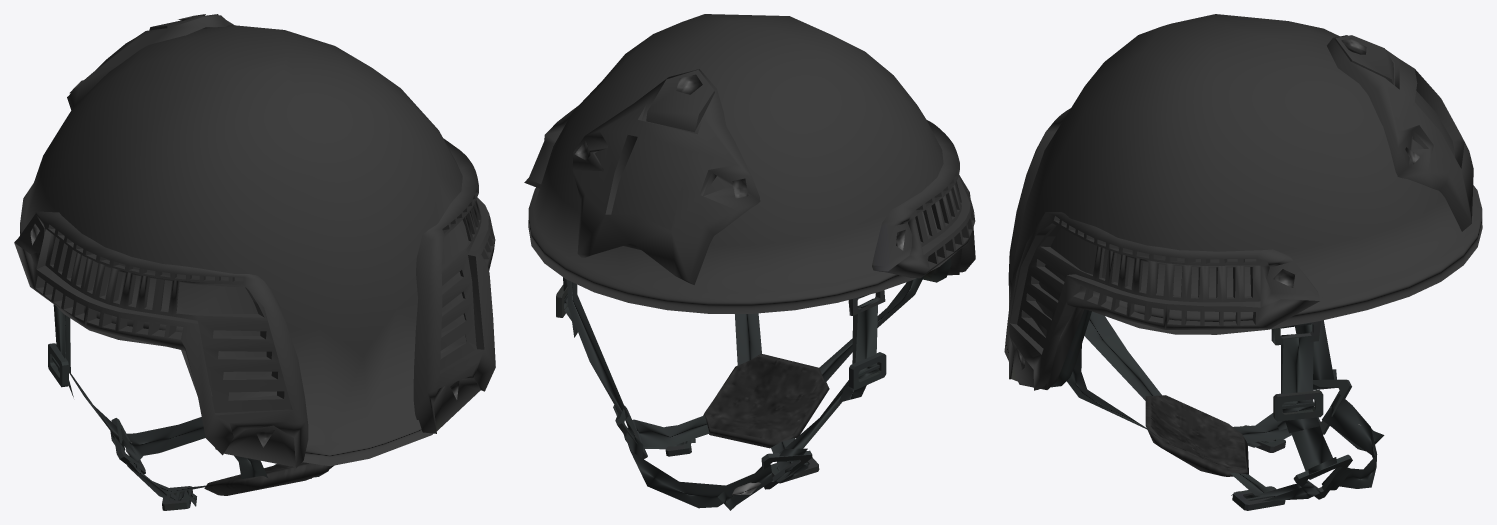
Rendered from gear.glb.
3 views of the same model, side by side, from view 1: azimuth 30°, elevation 25°; view 2: azimuth 150°, elevation 25°; view 3: azimuth 270°, elevation 25° (orthographic). The views are drawn at different scales.
Visible parts, largest first — view 1: MilitaryHelmet_Mdl_LP_lambert2_0; view 2: MilitaryHelmet_Mdl_LP_lambert2_0; view 3: MilitaryHelmet_Mdl_LP_lambert2_0.
Part boxes in pixels (x1=…): MilitaryHelmet_Mdl_LP_lambert2_0: x1=14, y1=14, x2=495, y2=510; MilitaryHelmet_Mdl_LP_lambert2_0: x1=524, y1=14, x2=975, y2=510; MilitaryHelmet_Mdl_LP_lambert2_0: x1=1004, y1=14, x2=1482, y2=510.
Size of the model in its own units: 7.93 by 8.23 by 8.1.
11 materials, 11 textured.
